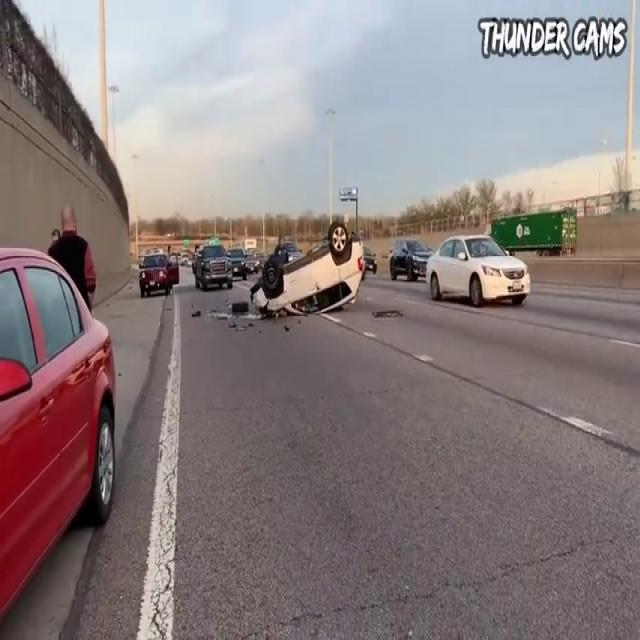accident: (249, 215, 372, 338)
